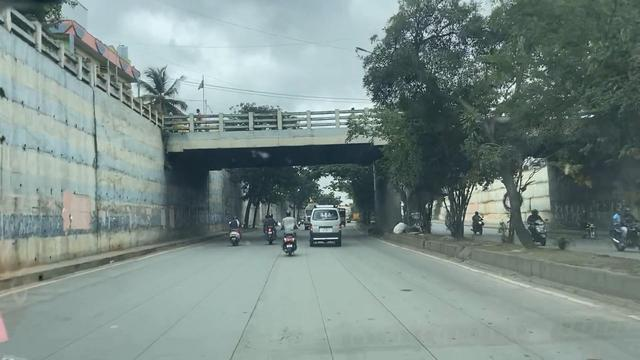LMV: (298, 199, 344, 253), (279, 208, 302, 259)
